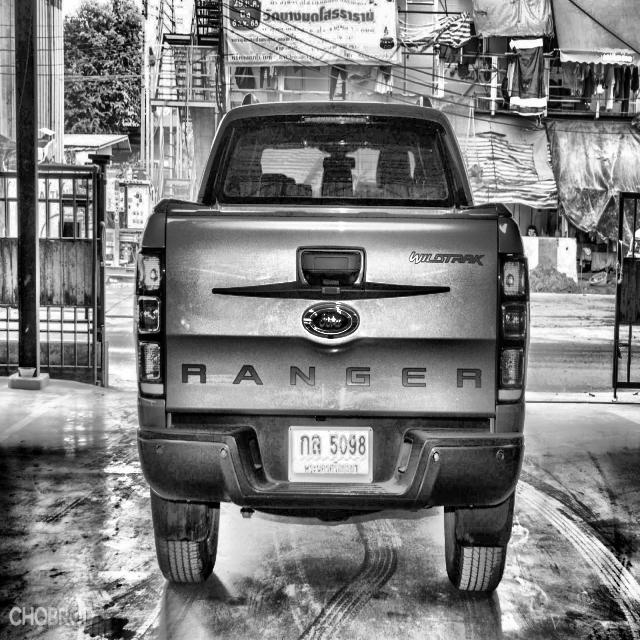license-plate: (287, 421, 374, 487)
